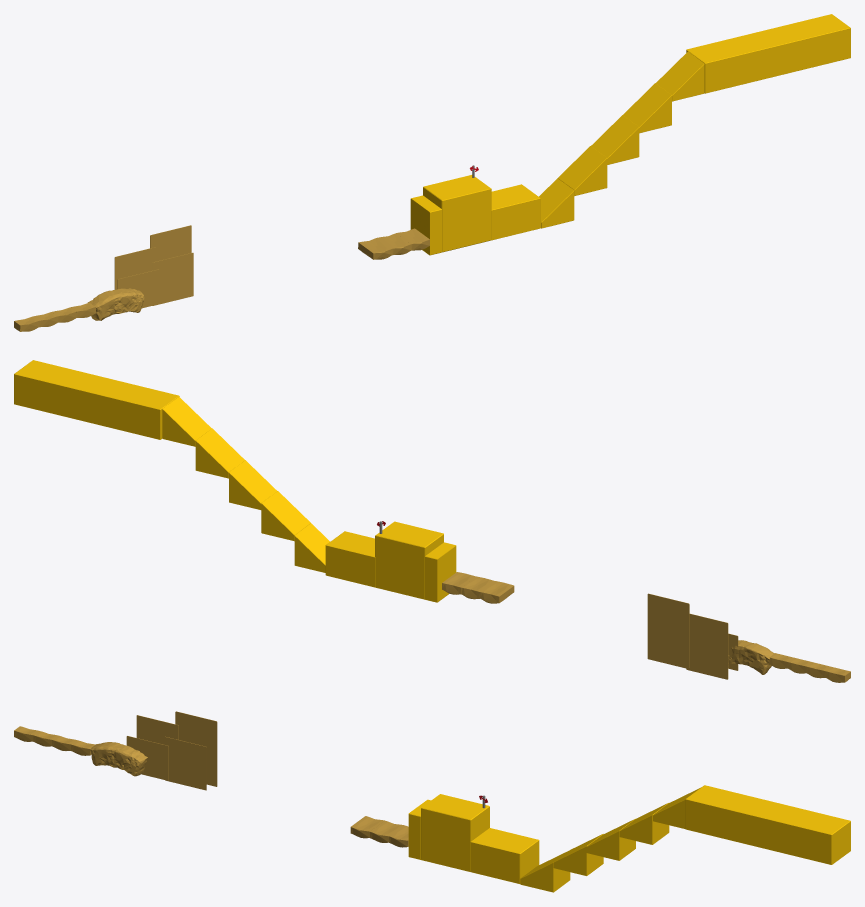
The model's file is Stage2.fbx.
The picture shows the model from 3 angles, top to bottom: view 1: azimuth 30°, elevation 25°; view 2: azimuth 150°, elevation 25°; view 3: azimuth 330°, elevation 25°; orthographic projection.
Parts seen in each view (by area): view 1: walkArea, walkArea__; view 2: walkArea, walkArea__; view 3: walkArea, walkArea__.
Boxes of the visible parts, box(x1,y1,x2,y2) form: walkArea: box(14, 14, 850, 331); walkArea__: box(423, 175, 491, 252); walkArea: box(14, 360, 850, 682); walkArea__: box(375, 521, 443, 599); walkArea: box(14, 711, 850, 892); walkArea__: box(421, 794, 489, 871).
Bounding box in the file's own units: 198094 × 29436 × 10669.
5 materials, 2 textured.
